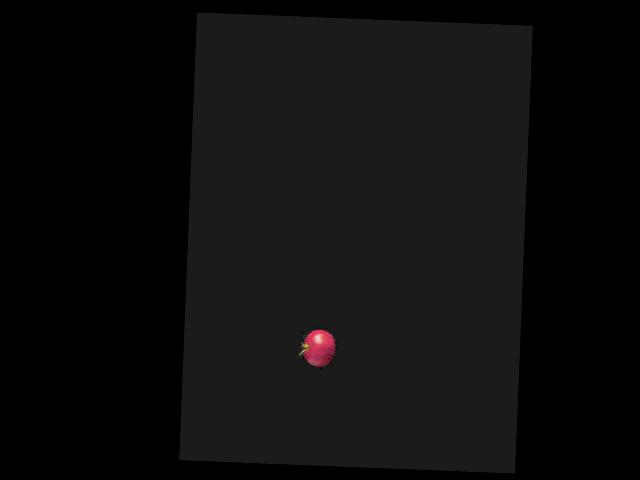tomato: (303, 329, 335, 367)
